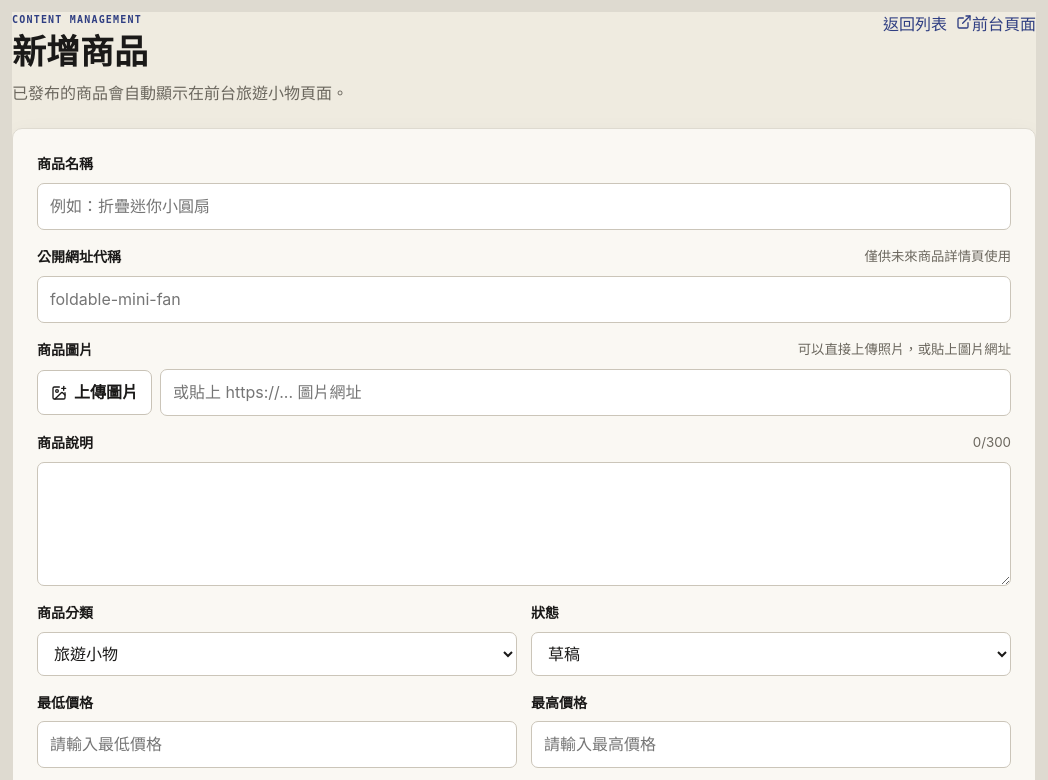
Scenario: ProductEditorPage — new product › auto-generates the slug from the product name while untouched
Type "Foldable Mini Fan" into the field with placeholder "例如：折疊迷你小圓扇".
click(524, 207); type("Foldable Mini Fan")  # box [37,183,1011,230]
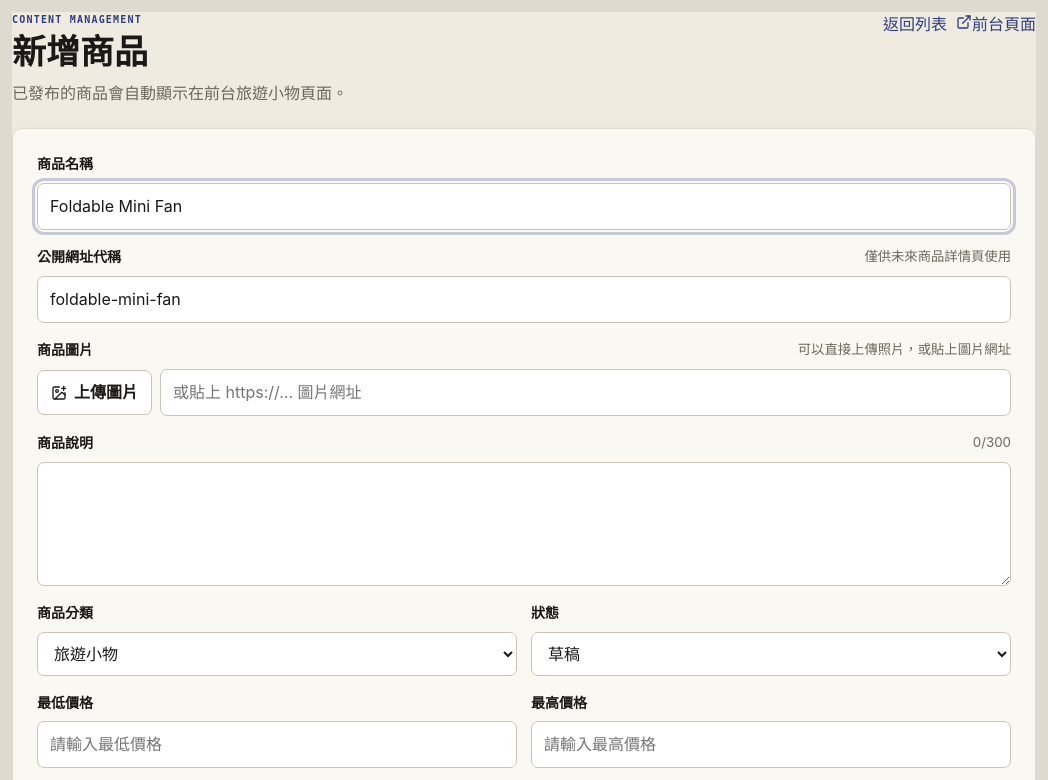
Result: the field with placeholder "foldable-mini-fan" holds "foldable-mini-fan" at [37,276,1011,323]
